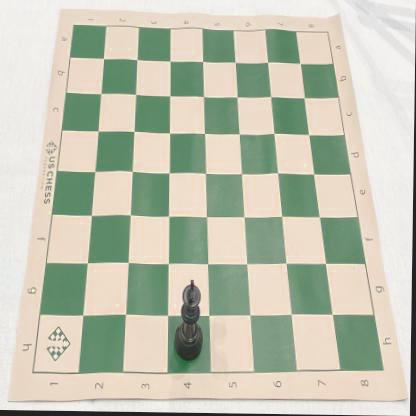black-king: (174, 280, 204, 364)
